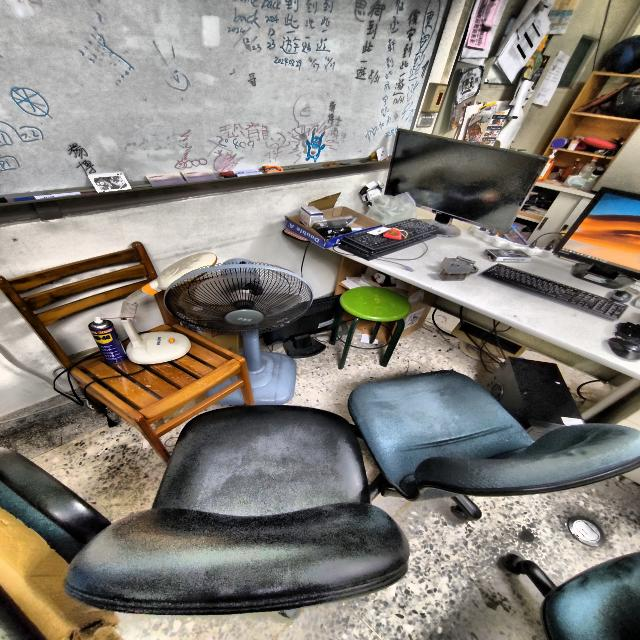cadeira: (60, 394, 407, 630), (0, 237, 257, 456), (337, 360, 640, 521), (329, 273, 408, 374)
